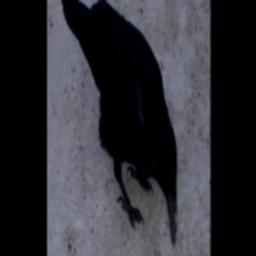Crow: (59, 0, 177, 245)
